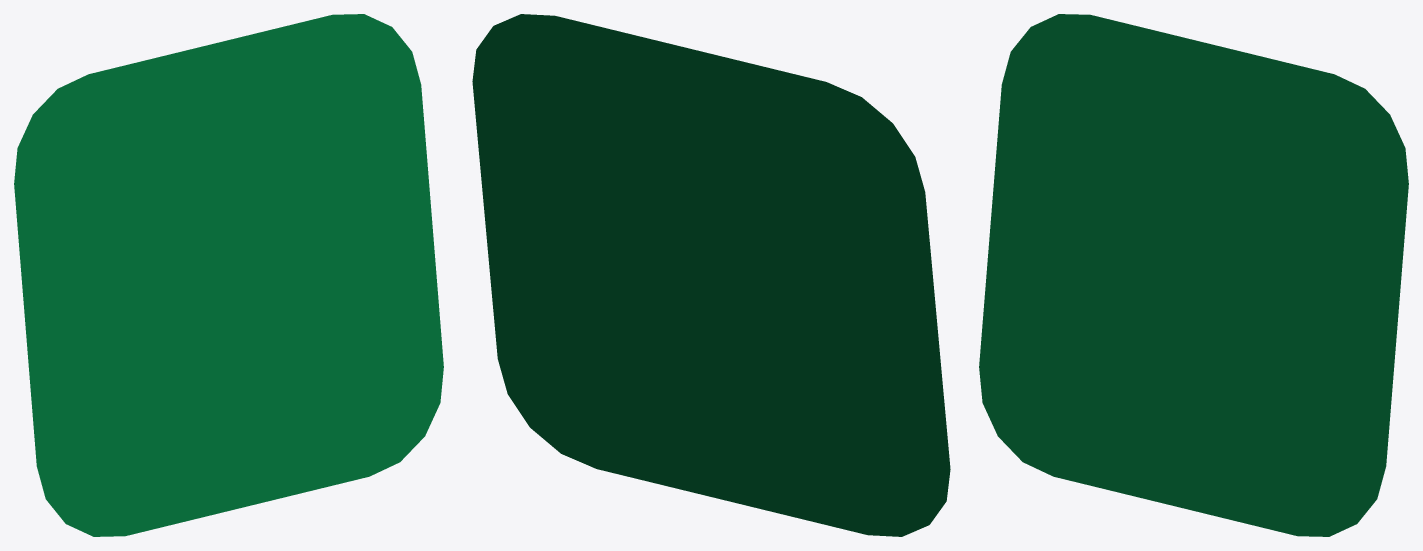
The model's file is original-16.obj.
3 renders of one model, left to right at view 1: azimuth 30°, elevation 25°; view 2: azimuth 150°, elevation 25°; view 3: azimuth 330°, elevation 25°, orthographic. The views are drawn at different scales.
Parts seen in each view (by area): view 1: #ID21; view 2: #ID21; view 3: #ID21.
Part boxes in pixels (x1,y1,x2,y2): #ID21: (14,14,443,536); #ID21: (472,14,950,536); #ID21: (979,14,1408,536).
Size of the model in its own units: 0.2506 by 0.2557 by 0.0396.
